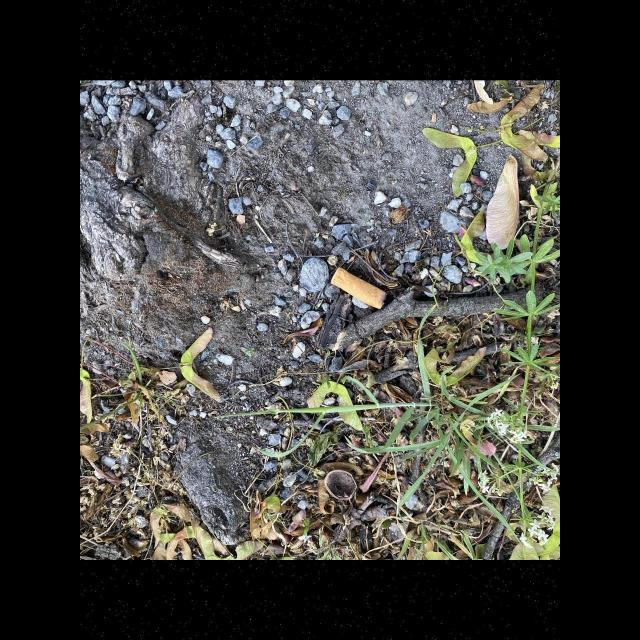cigarette: (329, 266, 386, 309)
